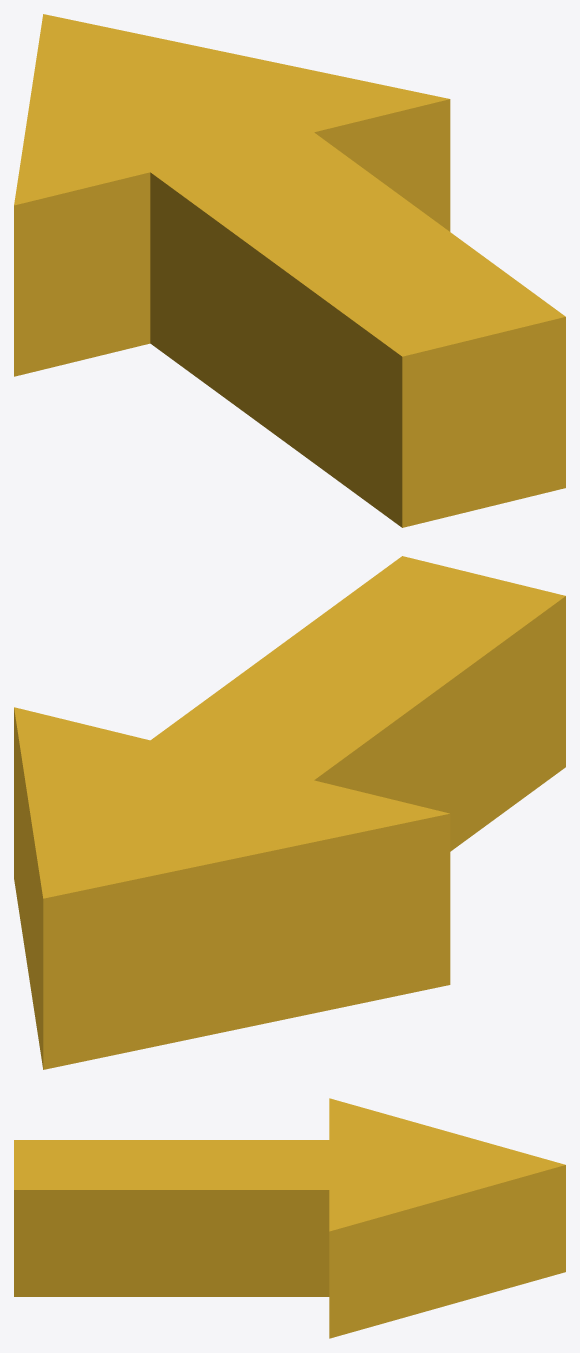
Rendered from arrow.glb.
3 views of the same model, one above another, from view 1: azimuth 30°, elevation 25°; view 2: azimuth 150°, elevation 25°; view 3: azimuth 270°, elevation 25° (orthographic). The views are drawn at different scales.
Parts seen in each view (by area): view 1: arrow; view 2: arrow; view 3: arrow.
Part boxes in pixels (left/top/right/bottom): arrow: left=14, top=14, right=565, bottom=527; arrow: left=14, top=556, right=565, bottom=1069; arrow: left=14, top=1098, right=565, bottom=1338.
Bounding box in the file's own units: 0.8 × 0.3 × 1.4.
